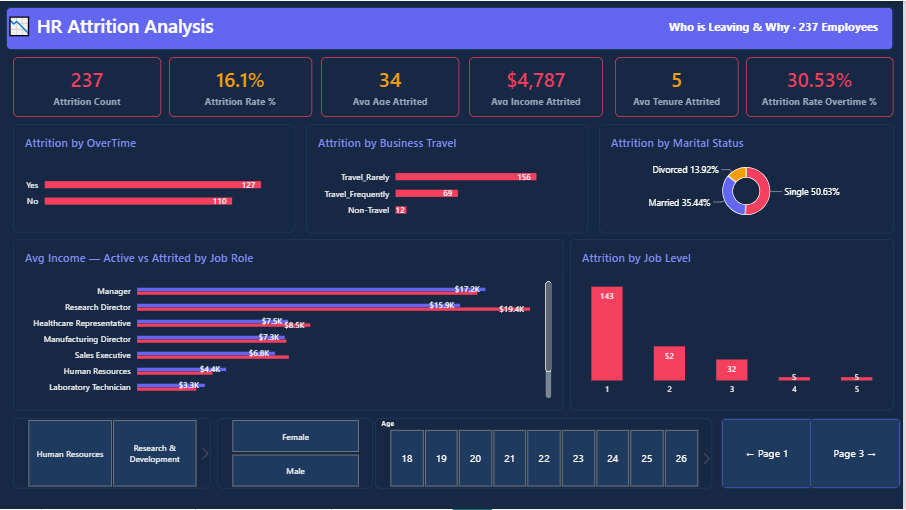

What the dashboard file says about the page in this screenshot:
{"tool":"powerbi","page":{"name":"HR Attrition Analysis","canvas":[1280,720],"ordinal":1},"visuals":[{"type":"shape","box":[10,8.8,1257.5,61.2],"z":0},{"type":"textbox","box":[12,17,507.5,42.5],"z":1000},{"type":"textbox","box":[949.6,25.5,310.4,25.5],"z":1001},{"type":"card","fields":{"Values":["HR.Attrition Count"]},"box":[20,80,210,85],"z":1002},{"type":"card","fields":{"Values":["HR.Attrition Rate %"]},"box":[241.2,80,202.5,85],"z":1003},{"type":"card","fields":{"Values":["HR.Avg Income Attrited"]},"box":[666.2,80,190,85],"z":1004},{"type":"card","fields":{"Values":["HR.Avg Age Attrited"]},"box":[456.2,80,196.2,85],"z":1005},{"type":"card","fields":{"Values":["HR.Avg Tenure Attrited"]},"box":[873.8,80,175,85],"z":1006},{"type":"clusteredBarChart","title":"Attrition by OverTime","fields":{"Category":["HR.OverTime"],"Y":["HR.Attrition Count"]},"box":[20,173.8,400,153.8],"z":1007},{"type":"clusteredBarChart","title":"Attrition by Business Travel","fields":{"Category":["HR.BusinessTravel"],"Y":["HR.Attrition Count"]},"box":[435,173.8,400,155],"z":1008},{"type":"donutChart","title":"Attrition by Marital Status","fields":{"Category":["HR.MaritalStatus"],"Y":["HR.Attrition Count"]},"box":[850,173.8,417.5,155],"z":1009},{"type":"clusteredBarChart","title":"Avg Income — Active vs Attrited by Job Role","fields":{"Category":["HR.JobRole"],"Y":["HR.Avg Income Active","HR.Avg Income Attrited"]},"box":[20,337.5,780,242.5],"z":1010},{"type":"clusteredColumnChart","title":"Attrition by Job Level","fields":{"Category":["HR.JobLevel"],"Y":["HR.Attrition Count"]},"box":[808.8,337.5,458.8,242.5],"z":1011},{"type":"card","fields":{"Values":["HR.Attrition Rate Overtime %"]},"box":[1058.8,80,208.8,85],"z":1012},{"type":"slicer","fields":{"Values":["HR.Department"]},"box":[20,591.2,280,100],"z":1013},{"type":"slicer","fields":{"Values":["HR.Gender"]},"box":[308.8,591.2,221.2,100],"z":1014},{"type":"slicer","fields":{"Values":["HR.Age"]},"box":[532.5,591.2,477.5,100],"z":1015},{"type":"actionButton","box":[1023.1,590.8,131.3,99.9],"z":1016},{"type":"actionButton","box":[1148.7,590.8,129.9,99.9],"z":1017}]}

Visuals, with their boxes in screenshot pixels (x1, y1, x2, y2), scaled from the page's 1280x720 canvas onto the 906x510 screenshot:
shape: Rect(7, 6, 897, 50)
textbox: Rect(8, 12, 368, 42)
textbox: Rect(672, 18, 892, 36)
card - HR.Attrition Count: Rect(14, 57, 163, 117)
card - HR.Attrition Rate %: Rect(171, 57, 314, 117)
card - HR.Avg Income Attrited: Rect(472, 57, 606, 117)
card - HR.Avg Age Attrited: Rect(323, 57, 462, 117)
card - HR.Avg Tenure Attrited: Rect(618, 57, 742, 117)
"Attrition by OverTime" clusteredBarChart: Rect(14, 123, 297, 232)
"Attrition by Business Travel" clusteredBarChart: Rect(308, 123, 591, 233)
"Attrition by Marital Status" donutChart: Rect(602, 123, 897, 233)
"Avg Income — Active vs Attrited by Job Role" clusteredBarChart: Rect(14, 239, 566, 411)
"Attrition by Job Level" clusteredColumnChart: Rect(572, 239, 897, 411)
card - HR.Attrition Rate Overtime %: Rect(749, 57, 897, 117)
slicer - HR.Department: Rect(14, 419, 212, 490)
slicer - HR.Gender: Rect(219, 419, 375, 490)
slicer - HR.Age: Rect(377, 419, 715, 490)
actionButton: Rect(724, 418, 817, 489)
actionButton: Rect(813, 418, 905, 489)
